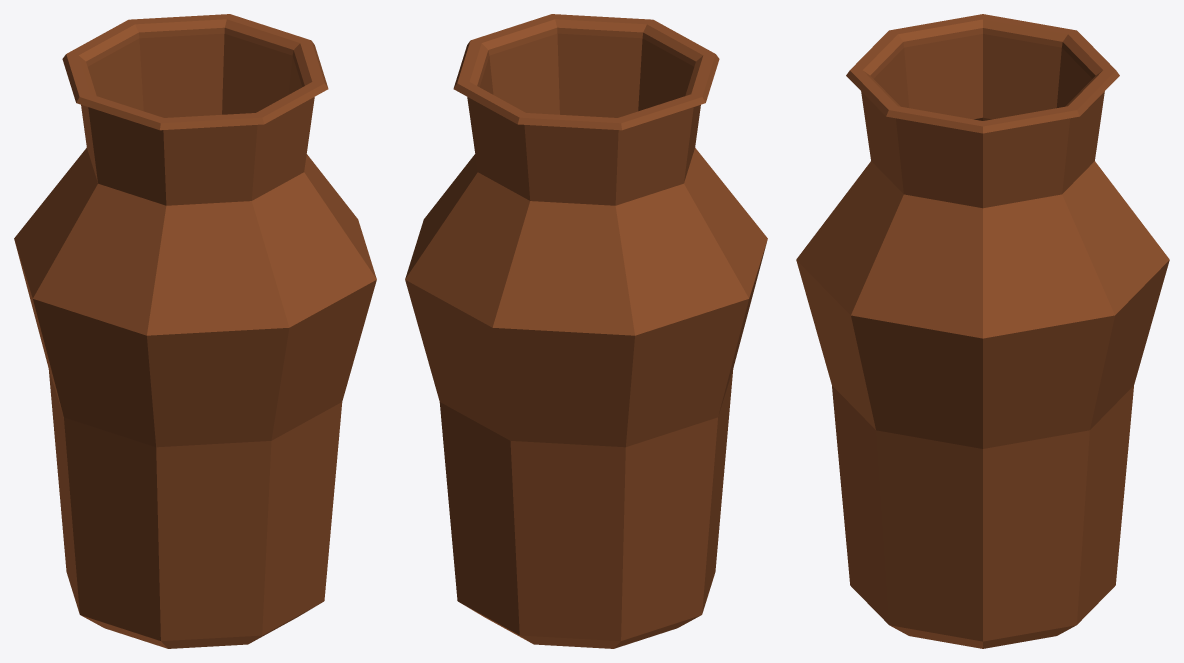
File: Collin_Vase_005.fbx
3 views of the same model, side by side, from view 1: azimuth 30°, elevation 25°; view 2: azimuth 150°, elevation 25°; view 3: azimuth 270°, elevation 25° (orthographic).
Visible parts, largest first — view 1: Vase_001; view 2: Vase_001; view 3: Vase_001.
Part boxes in pixels (box(x1,y1,x2,y2)): Vase_001: box(14, 14, 376, 648); Vase_001: box(405, 14, 767, 648); Vase_001: box(796, 14, 1169, 648).
Size of the model in its own units: 60.59 by 95.62 by 60.59.
1 material, 1 textured.
